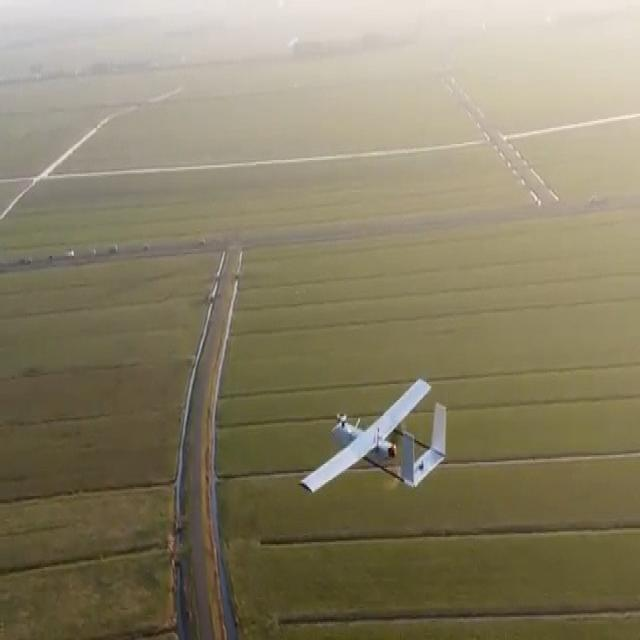drones: (302, 363, 458, 514)
